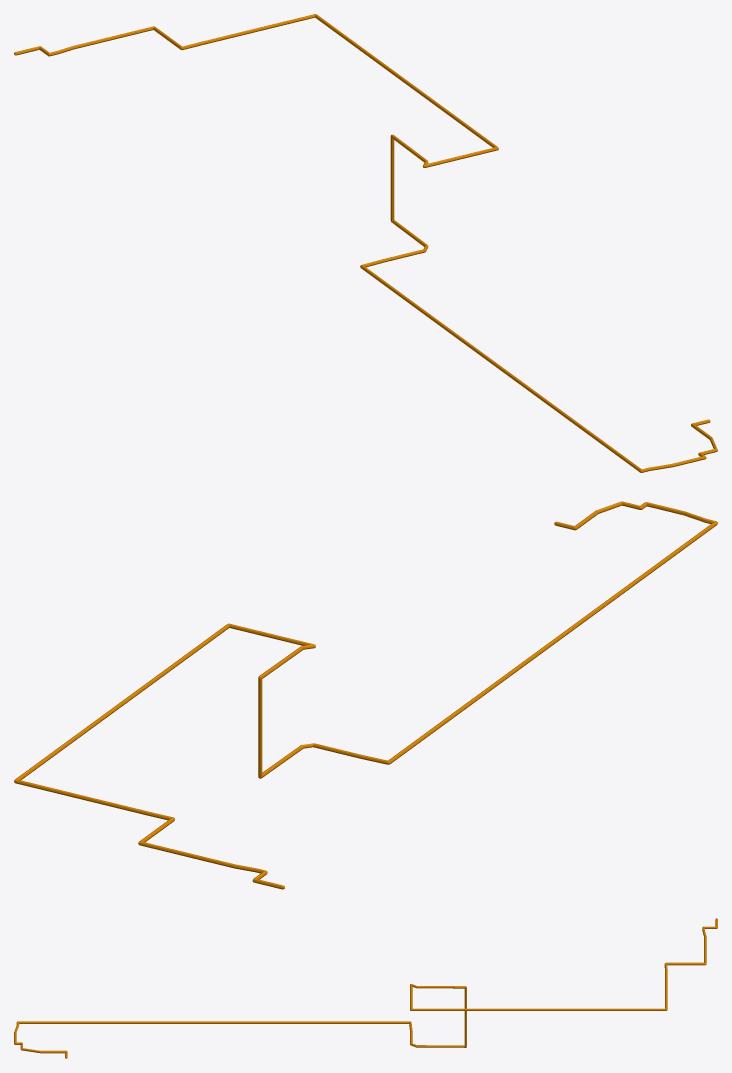
3 renders of one model, top to bottom at view 1: azimuth 30°, elevation 25°; view 2: azimuth 150°, elevation 25°; view 3: azimuth 270°, elevation 25°, orthographic. The views are drawn at different scales.
Size of the model in its own units: 1655 by 520 by 5382.
